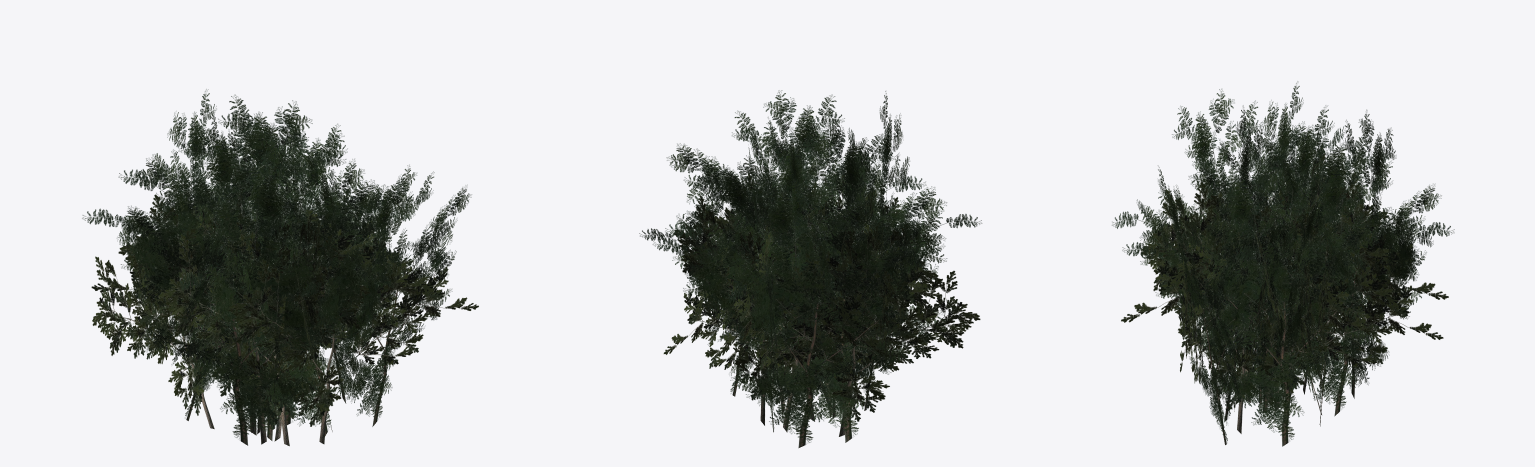
3 views of the same model, side by side, from view 1: azimuth 30°, elevation 25°; view 2: azimuth 150°, elevation 25°; view 3: azimuth 270°, elevation 25° (orthographic). The views are drawn at different scales.
Visible parts, largest first — view 1: ST_TallBush_ST_Blades_2_Mat_0, ST_TallBush_ST_Blades_1_Mat_0; view 2: ST_TallBush_ST_Blades_2_Mat_0, ST_TallBush_ST_Blades_1_Mat_0; view 3: ST_TallBush_ST_Blades_2_Mat_0, ST_TallBush_ST_Blades_1_Mat_0.
Part boxes in pixels (box(x1,y1,x2,y2)): ST_TallBush_ST_Blades_2_Mat_0: box(82, 89, 471, 445); ST_TallBush_ST_Blades_1_Mat_0: box(91, 188, 478, 446); ST_TallBush_ST_Blades_2_Mat_0: box(639, 90, 981, 447); ST_TallBush_ST_Blades_1_Mat_0: box(663, 149, 980, 436); ST_TallBush_ST_Blades_2_Mat_0: box(1112, 81, 1454, 446); ST_TallBush_ST_Blades_1_Mat_0: box(1121, 143, 1448, 433).
Bounding box in the file's own units: 15.93 × 10.83 × 13.68.
2 materials, 2 textured.
